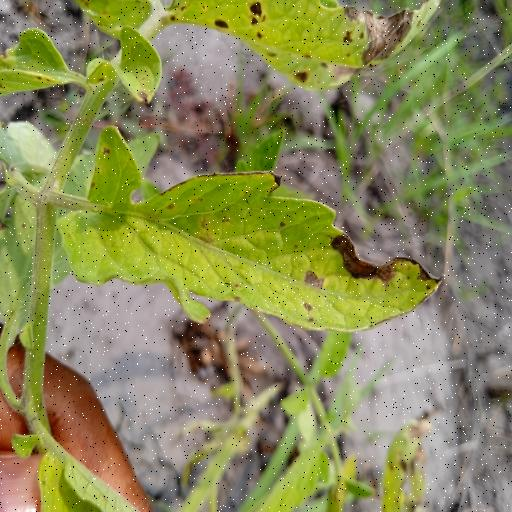Tomato_Brown_Spots: (58, 118, 445, 338)
